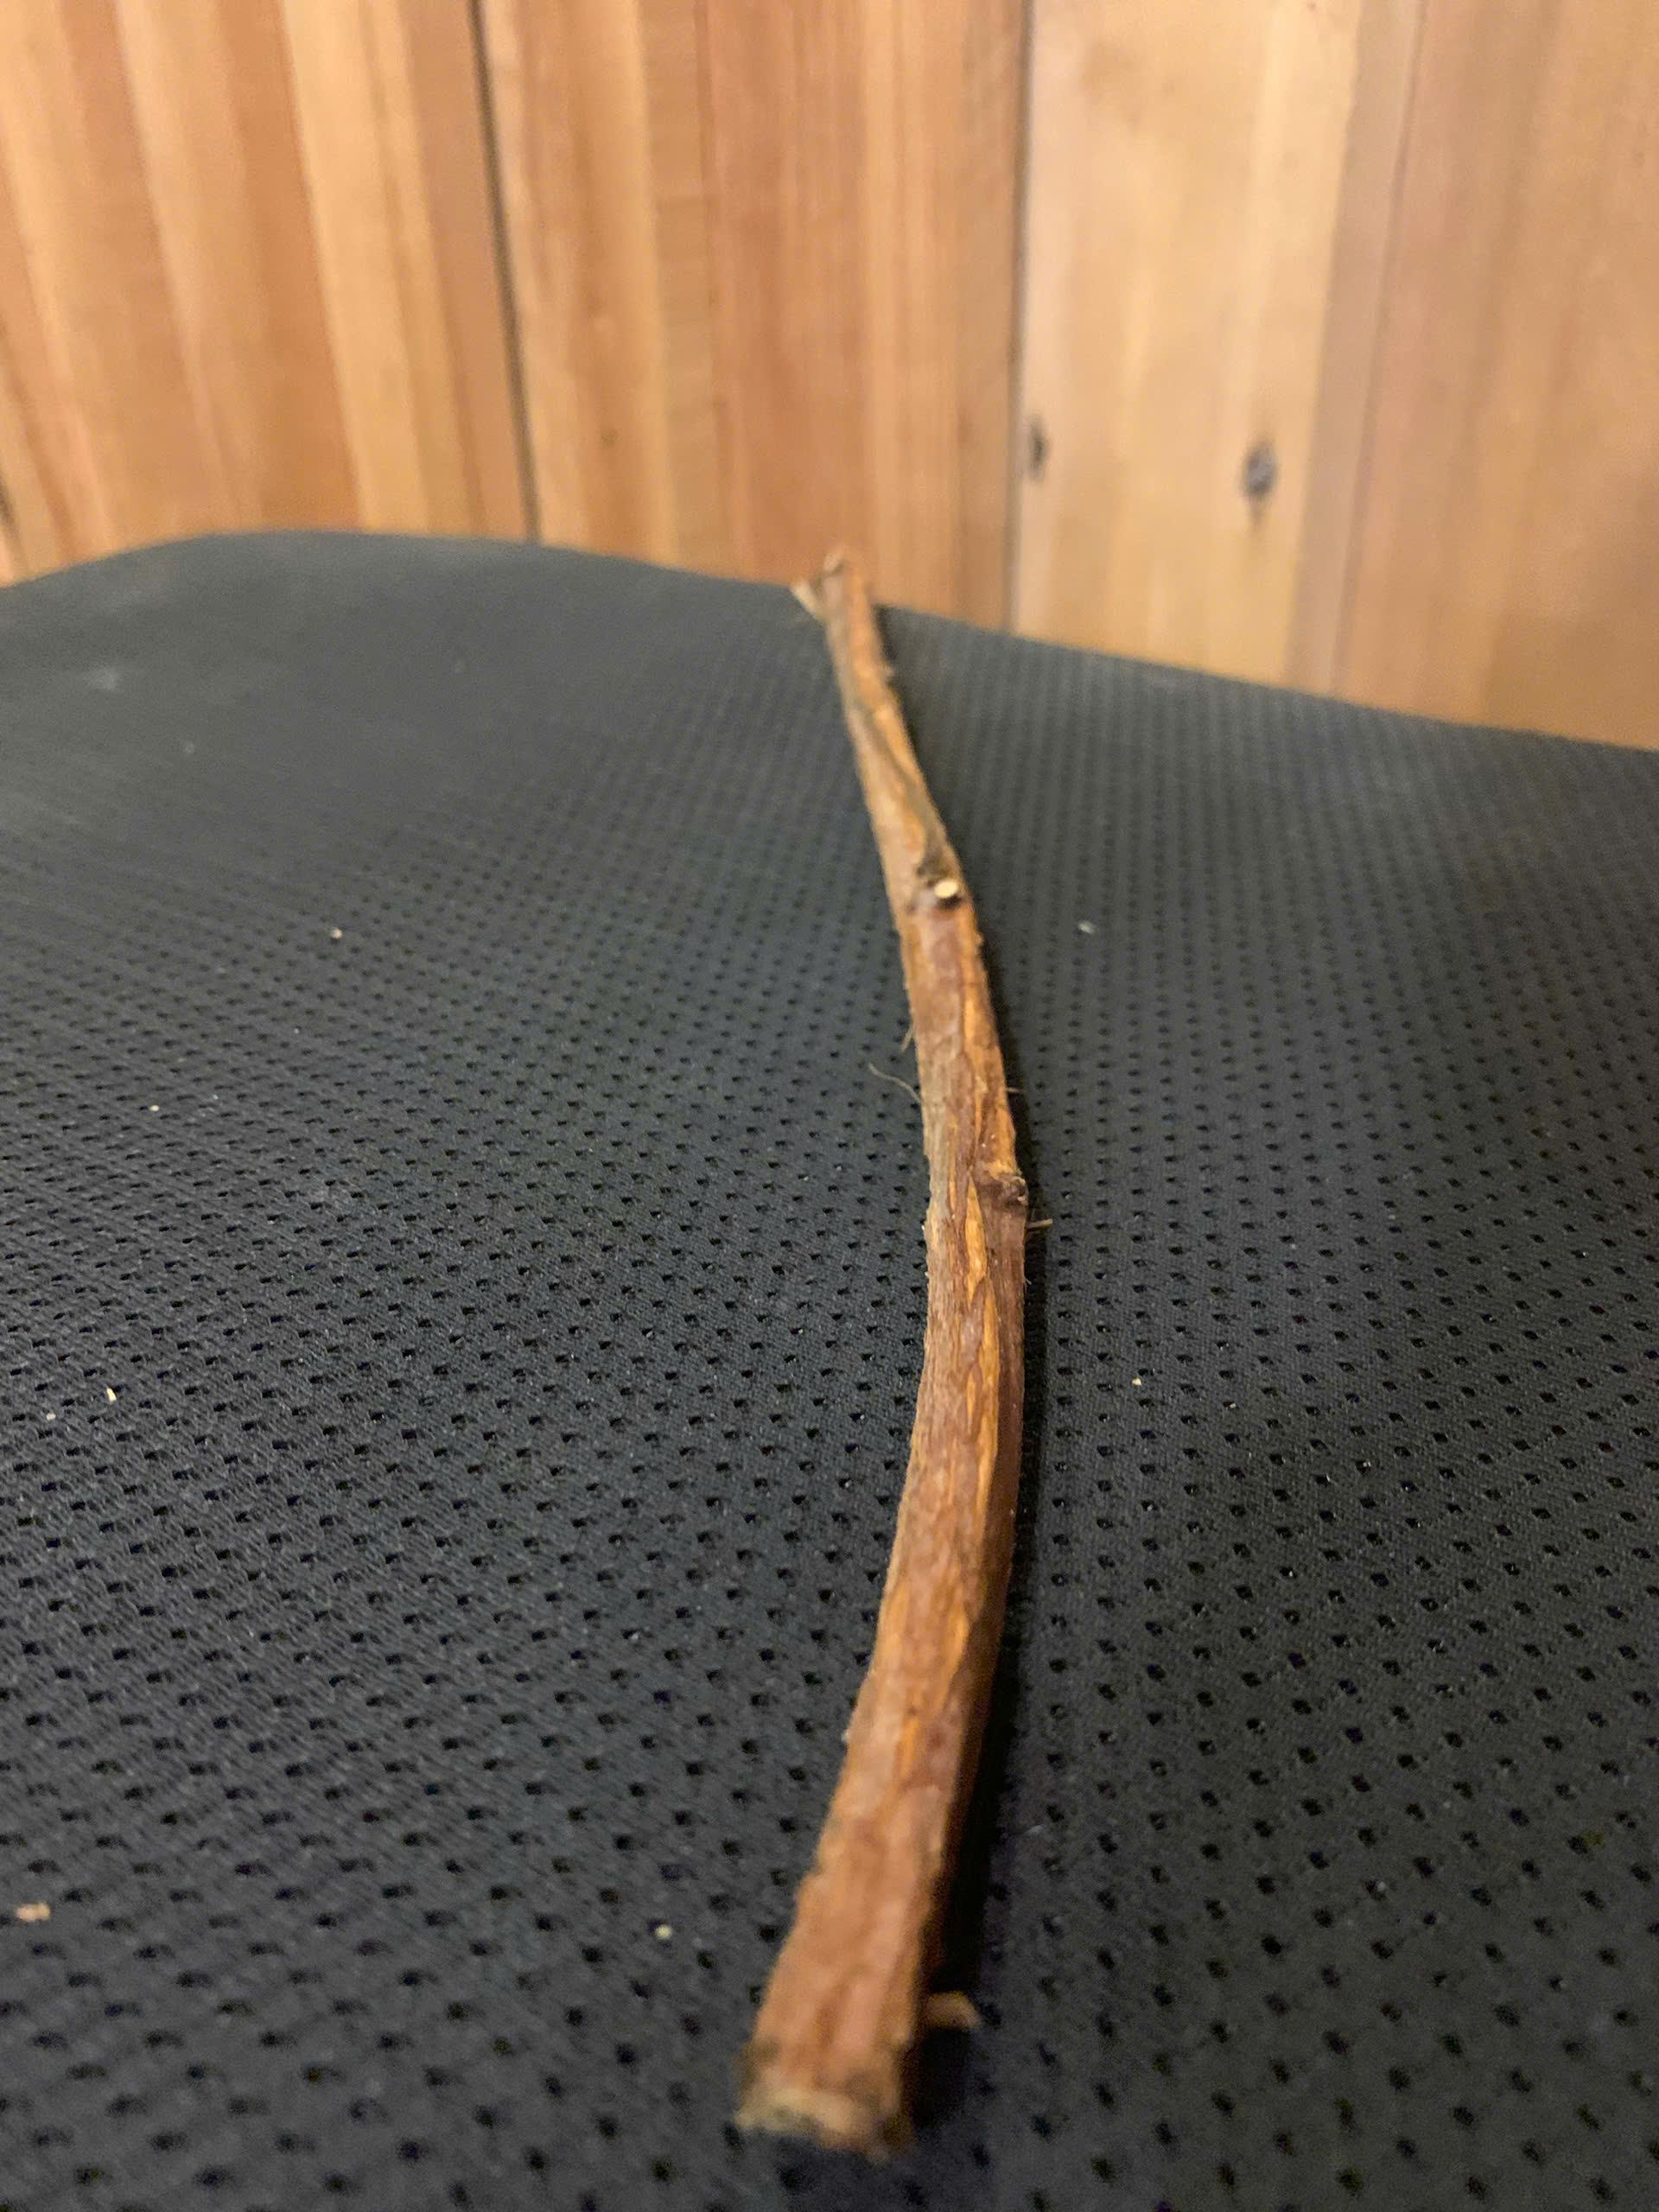Huu co: (742, 528, 1037, 2151)
